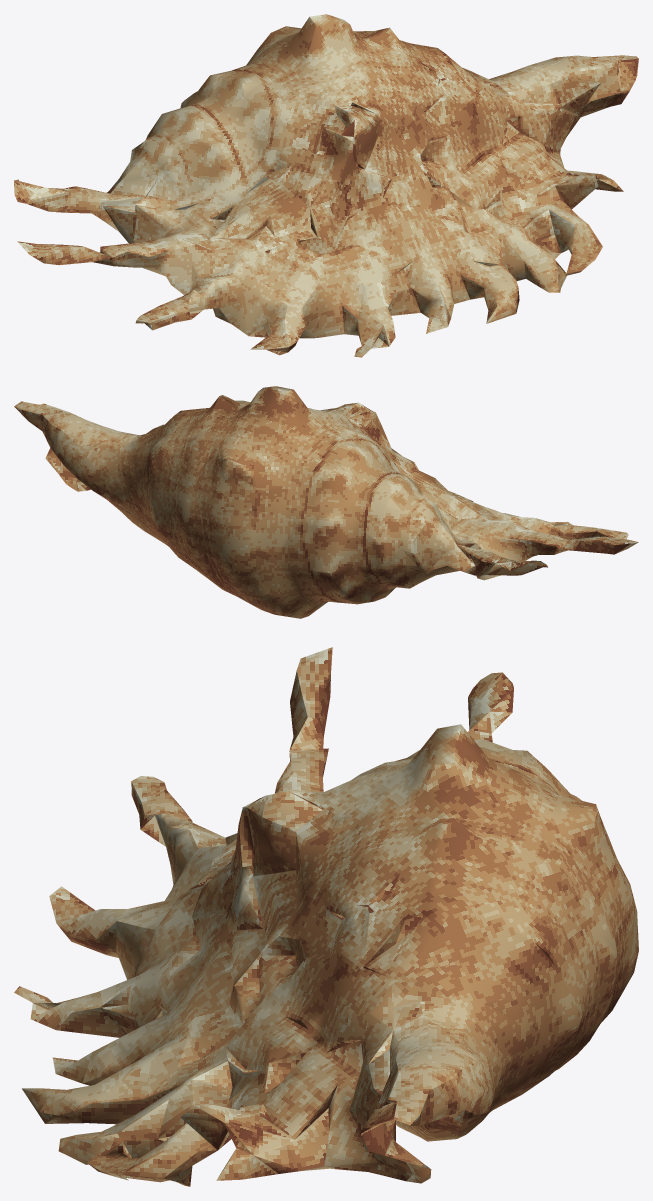
File: sv_conch.glb
3 views of the same model, one above another, from view 1: azimuth 30°, elevation 25°; view 2: azimuth 150°, elevation 25°; view 3: azimuth 270°, elevation 25° (orthographic). The views are drawn at different scales.
Visible parts, largest first — view 1: sv_conch; view 2: sv_conch; view 3: sv_conch.
Part boxes in pixels (x1,y1,x2,y2): sv_conch: (14, 14, 638, 357); sv_conch: (14, 386, 638, 618); sv_conch: (14, 647, 638, 1186).
Bounding box in the file's own units: 0.75 × 0.2503 × 0.4015.
Materials: 1 (1 with a texture image).
